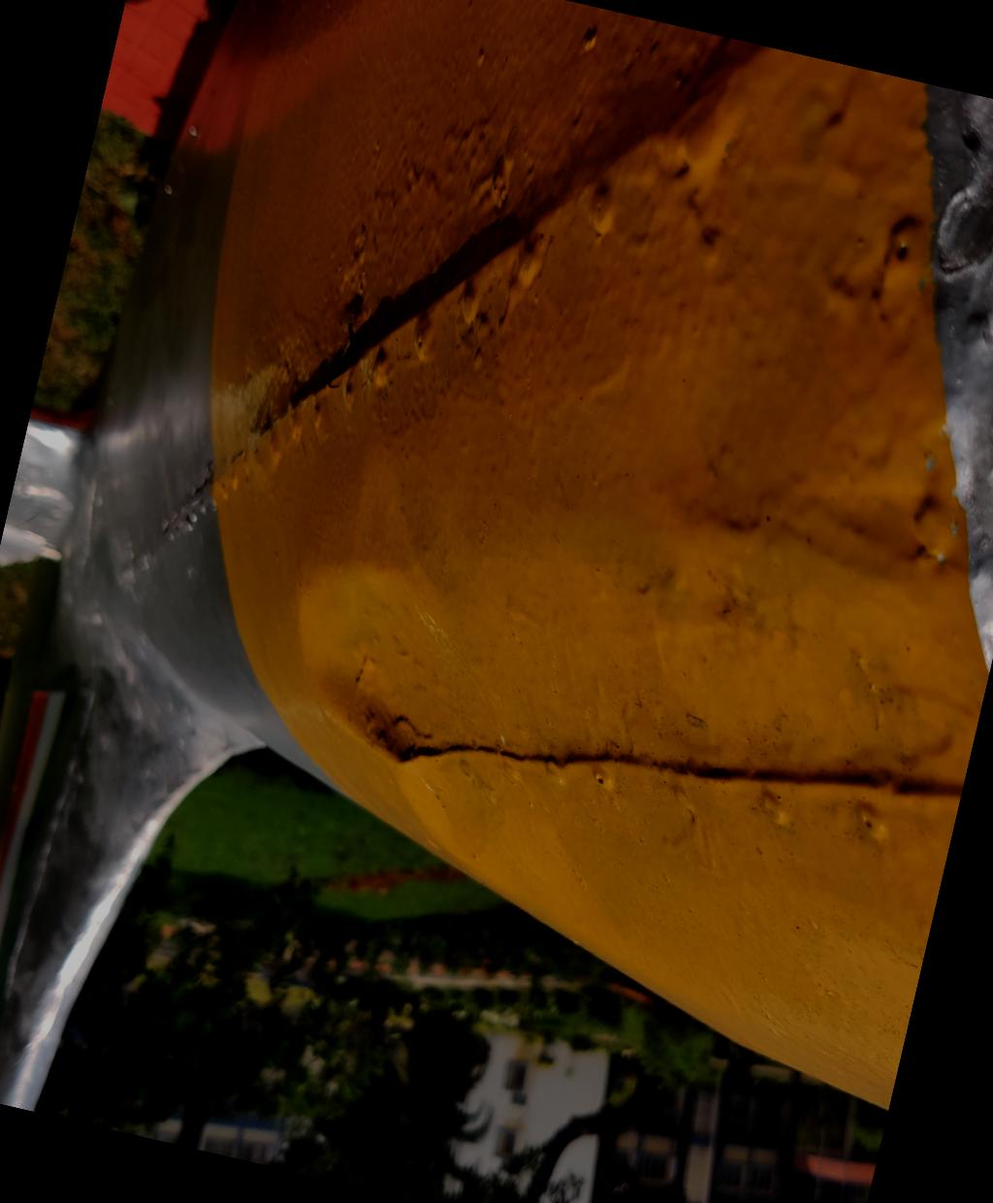dent: (235, 471, 542, 814)
